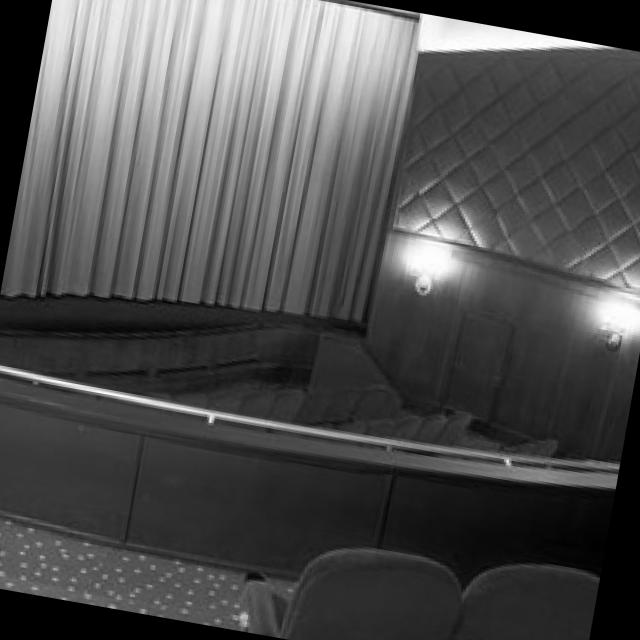curtain crop: (5, 0, 422, 321)
door bars: (444, 313, 514, 423)
floor -X: (0, 511, 303, 629), (401, 393, 570, 458)
lamp crop: (413, 246, 450, 295), (604, 301, 640, 350)
railing: (0, 360, 621, 587)
seats crop: (246, 548, 601, 640), (152, 381, 561, 458)
stage: (0, 288, 368, 391)
wall clock: (360, 14, 640, 460)
